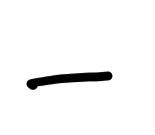minus: (27, 70, 112, 87)
